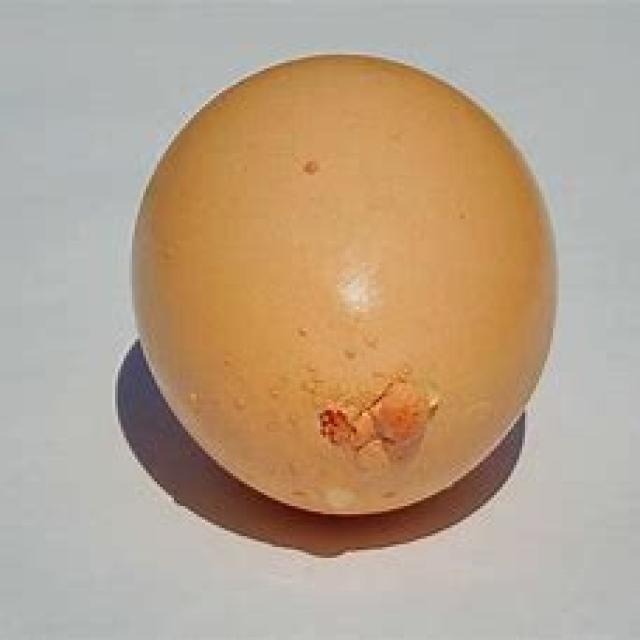Blood Stained Egg: (110, 39, 558, 533)
